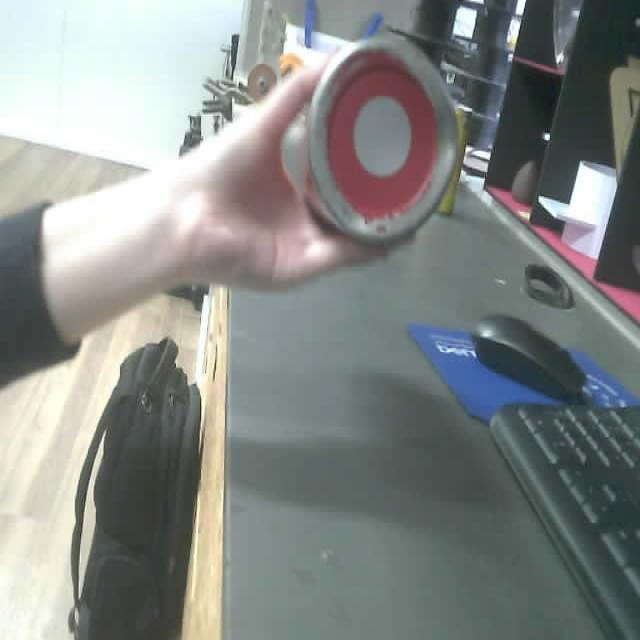water bottle: (280, 36, 462, 253)
